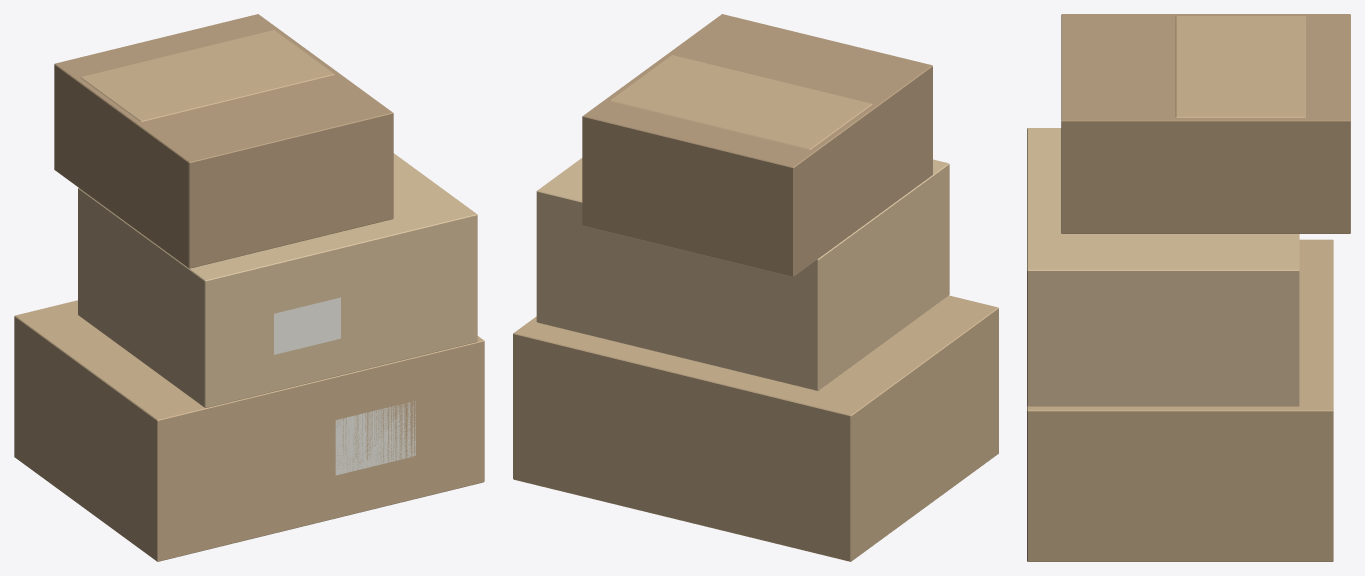
The model's file is prop_shipper_stack_01.glb.
The picture shows the model from 3 angles, left to right: view 1: azimuth 30°, elevation 25°; view 2: azimuth 150°, elevation 25°; view 3: azimuth 270°, elevation 25°; orthographic projection. The views are drawn at different scales.
Parts seen in each view (by area): view 1: prop_shipper_stack_01; view 2: prop_shipper_stack_01; view 3: prop_shipper_stack_01.
Part boxes in pixels (x1,y1,x2,y2): prop_shipper_stack_01: [14, 14, 484, 561]; prop_shipper_stack_01: [513, 14, 998, 561]; prop_shipper_stack_01: [1027, 14, 1350, 561].
Size of the model in its own units: 0.5 by 0.55 by 0.4.
